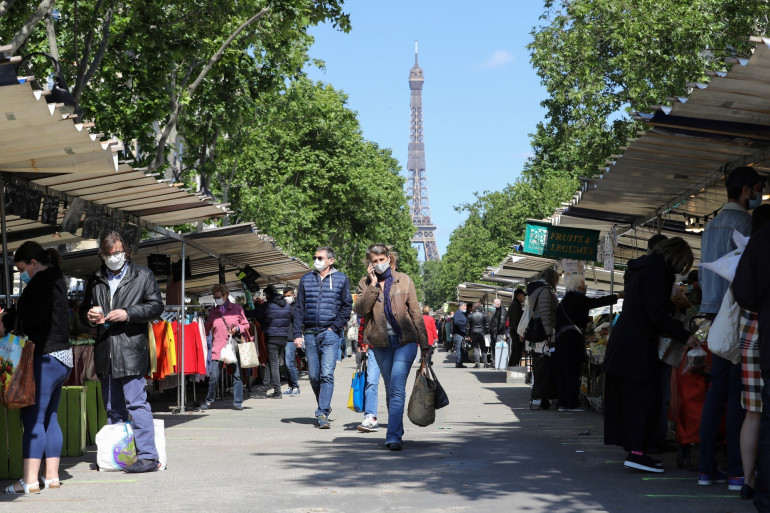with_mask: (102, 244, 124, 270), (15, 256, 36, 281), (371, 256, 390, 273), (212, 289, 227, 306), (314, 251, 327, 270)
